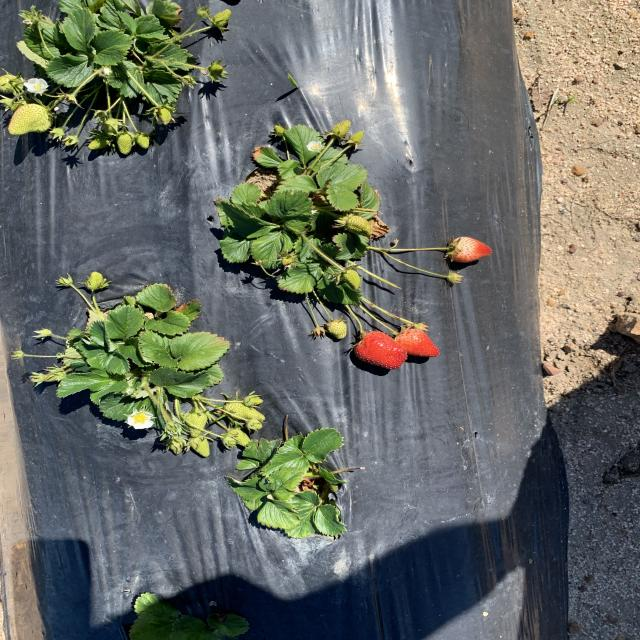unripe: (354, 332, 410, 371), (398, 328, 442, 358)
